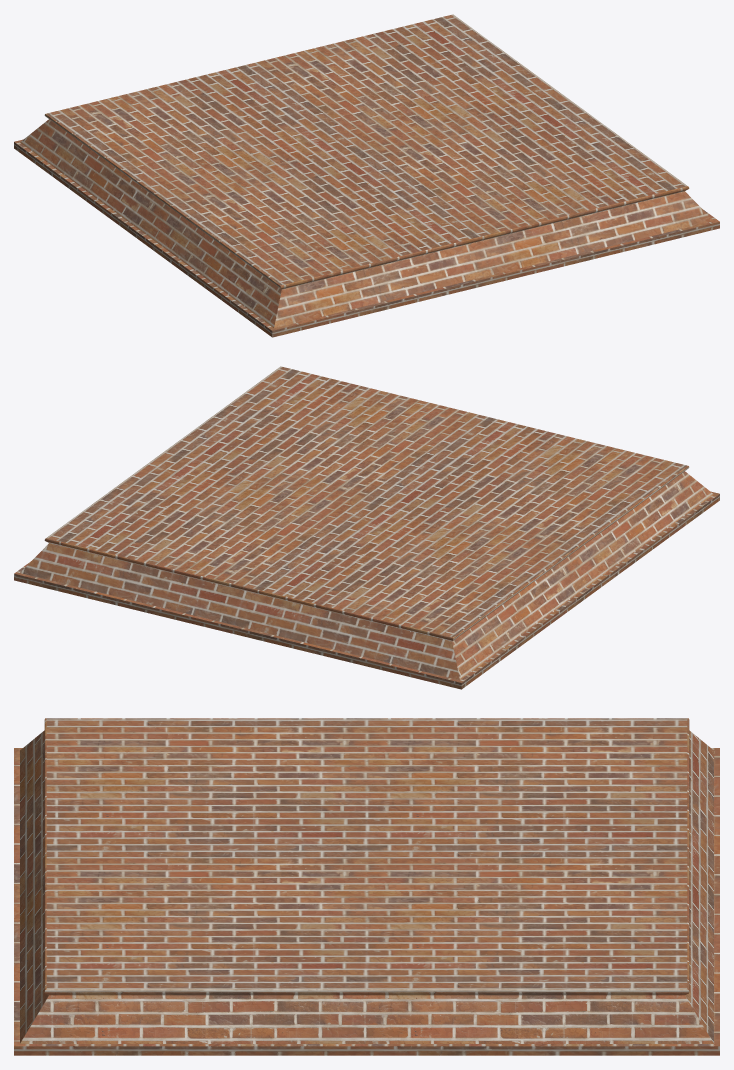
Rendered from skylightbase.fbx.
The picture shows the model from 3 angles, top to bottom: view 1: azimuth 30°, elevation 25°; view 2: azimuth 150°, elevation 25°; view 3: azimuth 270°, elevation 25°; orthographic projection. The views are drawn at different scales.
Parts seen in each view (by area): view 1: pCube15; view 2: pCube15; view 3: pCube15.
Boxes of the visible parts, left/top/right/bottom form: pCube15: left=14, top=14, right=719, bottom=337; pCube15: left=14, top=366, right=719, bottom=689; pCube15: left=14, top=718, right=719, bottom=1055.
Bounding box in the file's own units: 10.38 × 0.8547 × 10.38.
